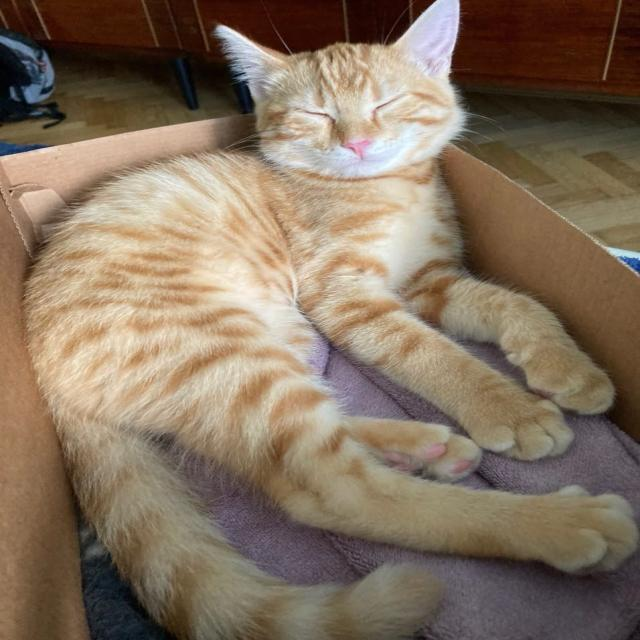red_cat: (25, 0, 637, 640)
